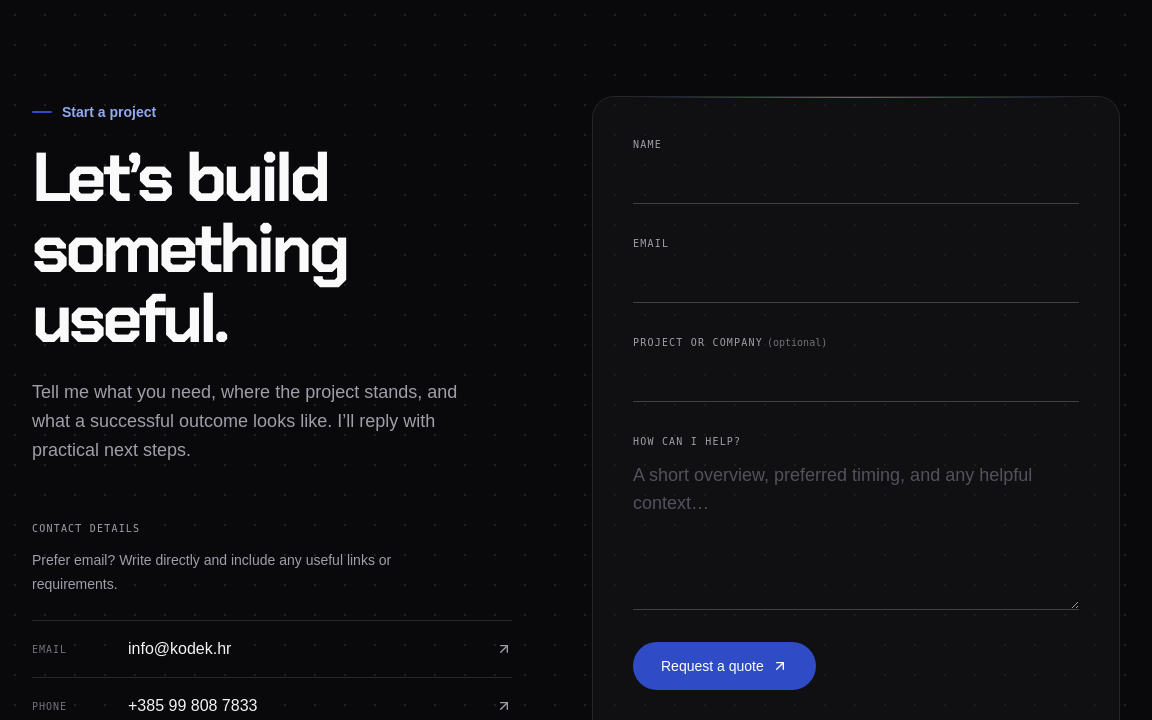
Test: ContactPage client-side validation › rejects a message shorter than 10 characters
In the field labelled "Name": (856, 180) [633,156,1079,204], type "Ada Lovelace"
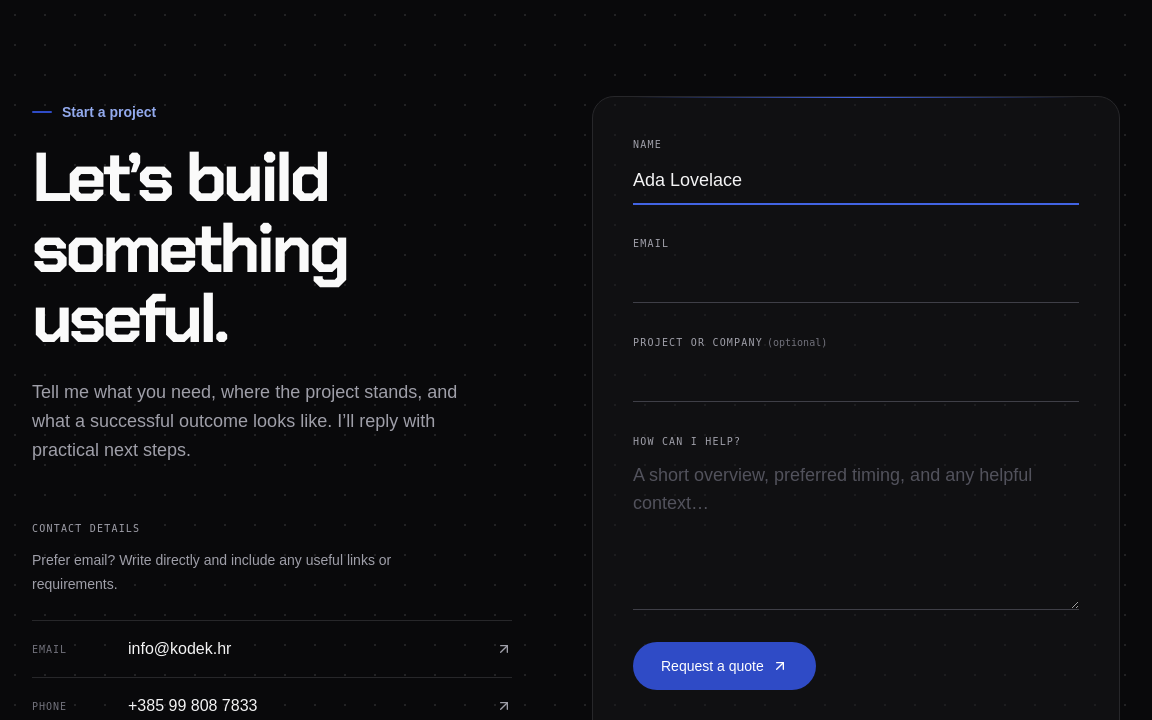
In the field labelled "Email": (856, 279) [633,255,1079,303], type "ada@example.com"
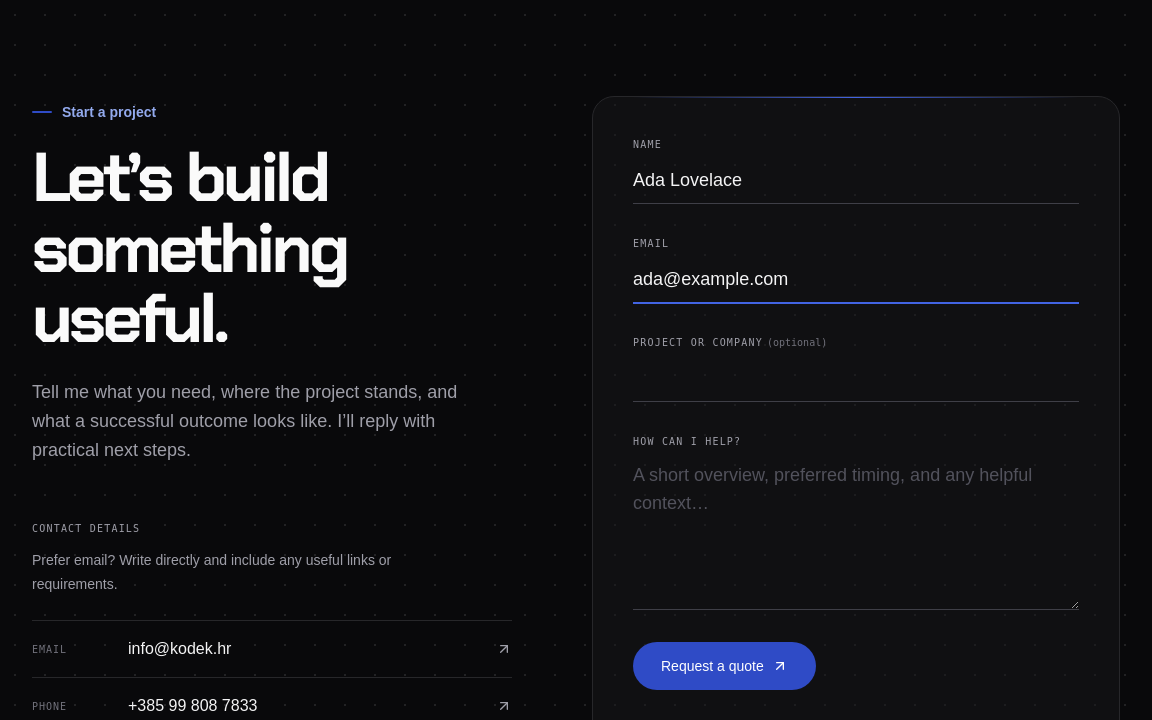
In the text box labelled "How can I help?": (856, 532) [633,453,1079,610], type "too short"
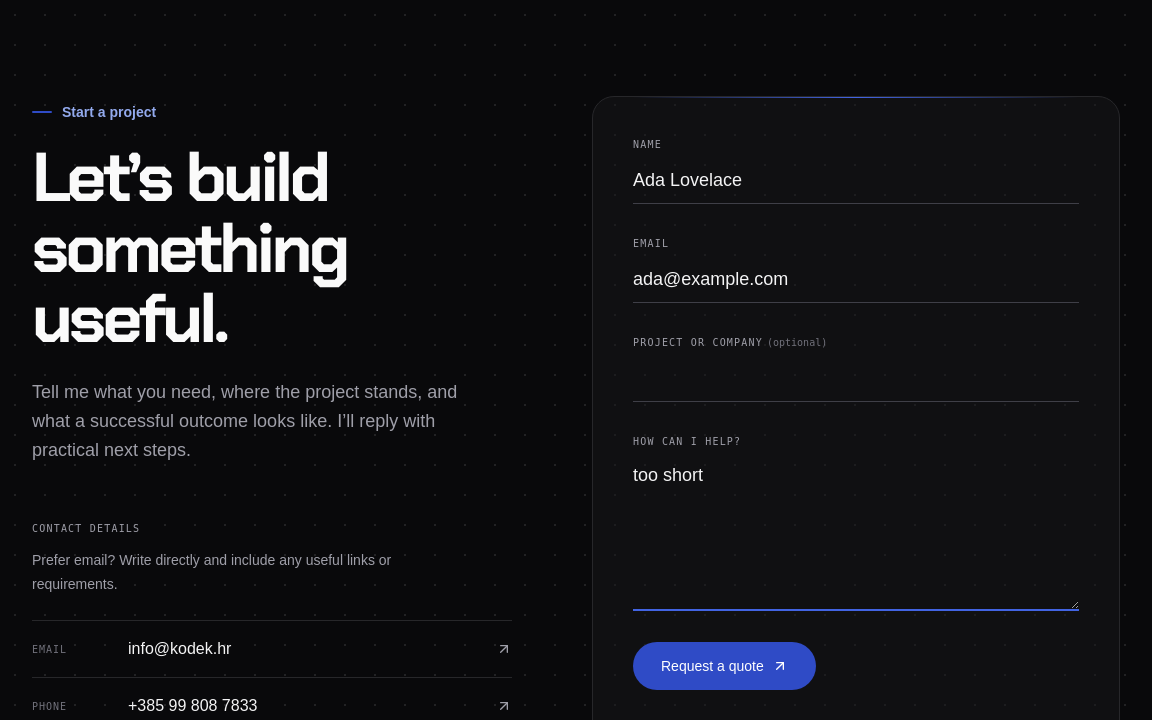
Click the button "Request a quote": (724, 666) [633,642,816,690]
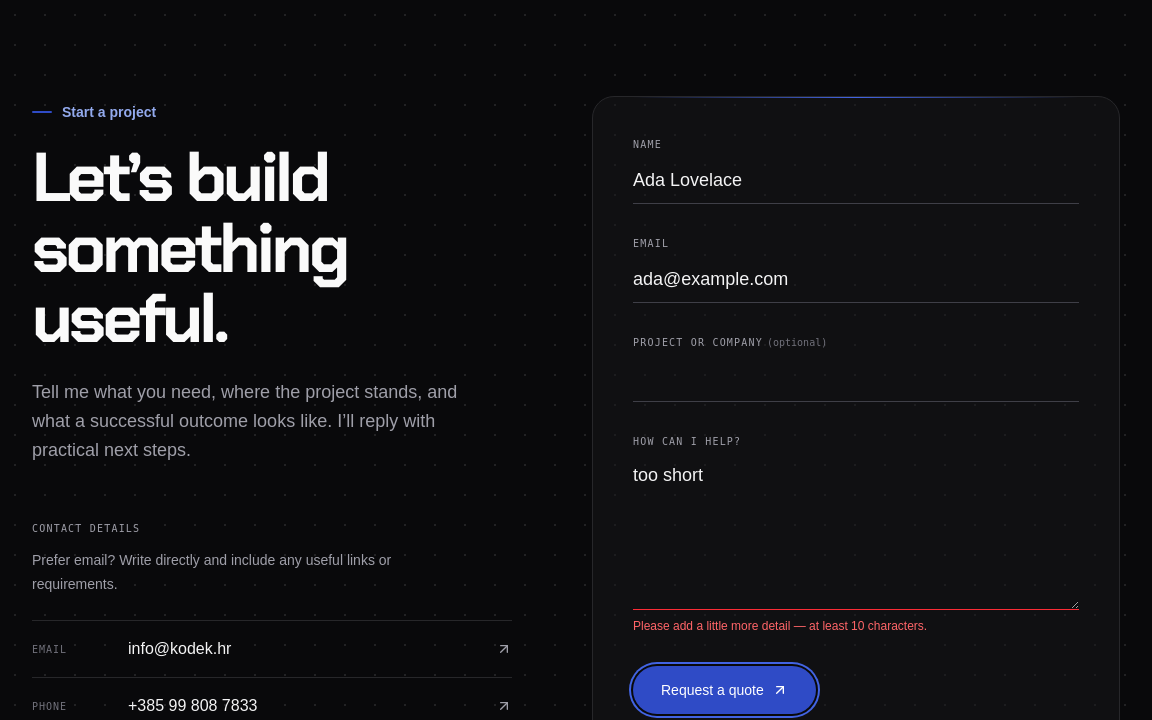
expect the text "Please add a little more detail — at least 10 characters." is shown: met, box [633,619,927,633]
